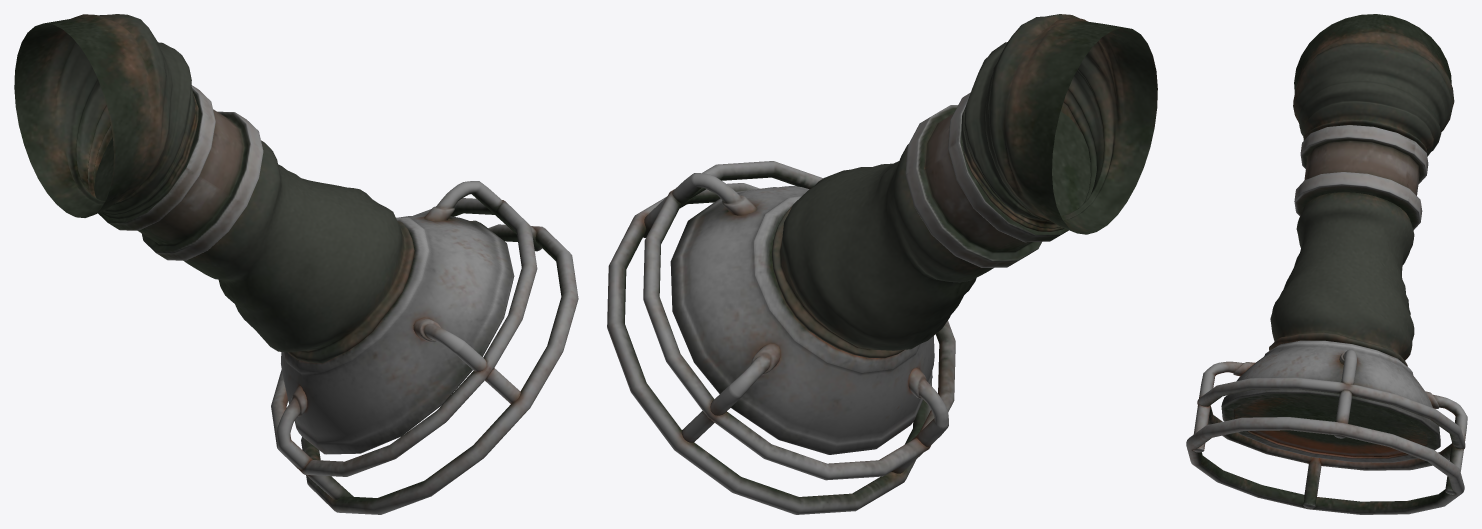
File: brazoder.obj
3 views of the same model, side by side, from view 1: azimuth 30°, elevation 25°; view 2: azimuth 150°, elevation 25°; view 3: azimuth 270°, elevation 25° (orthographic). The views are drawn at different scales.
Parts seen in each view (by area): view 1: defaultMaterial.069; view 2: defaultMaterial.069; view 3: defaultMaterial.069.
Boxes of the visible parts, x1=… form: defaultMaterial.069: x1=14, y1=14, x2=578, y2=514; defaultMaterial.069: x1=607, y1=14, x2=1157, y2=514; defaultMaterial.069: x1=1186, y1=14, x2=1467, y2=514.
Bounding box in the file's own units: 1.65 × 1.74 × 1.09.
